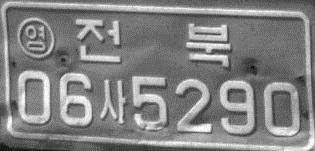0: (262, 81, 301, 137), (16, 69, 51, 125)
2: (175, 77, 212, 134)
5: (131, 75, 168, 131)
6: (58, 72, 93, 127)
9: (220, 79, 256, 135)
사: (99, 80, 126, 125)
영: (17, 17, 55, 59)
전북_D: (73, 17, 233, 69)
